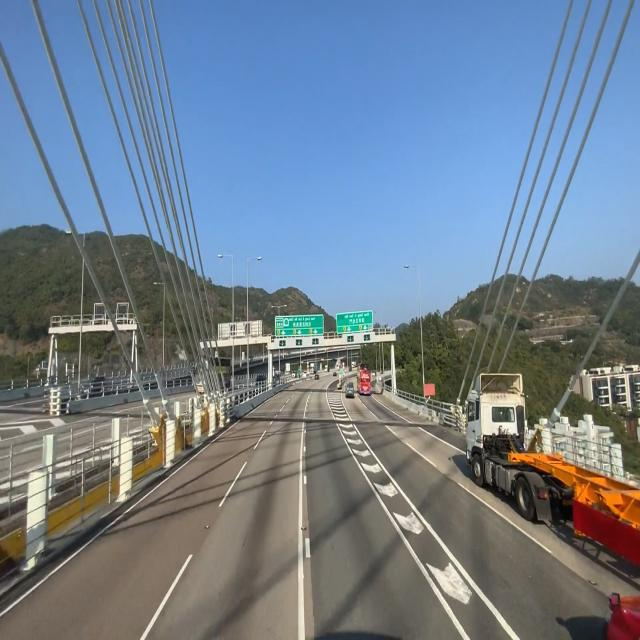Vehicle: (465, 368, 640, 567)
